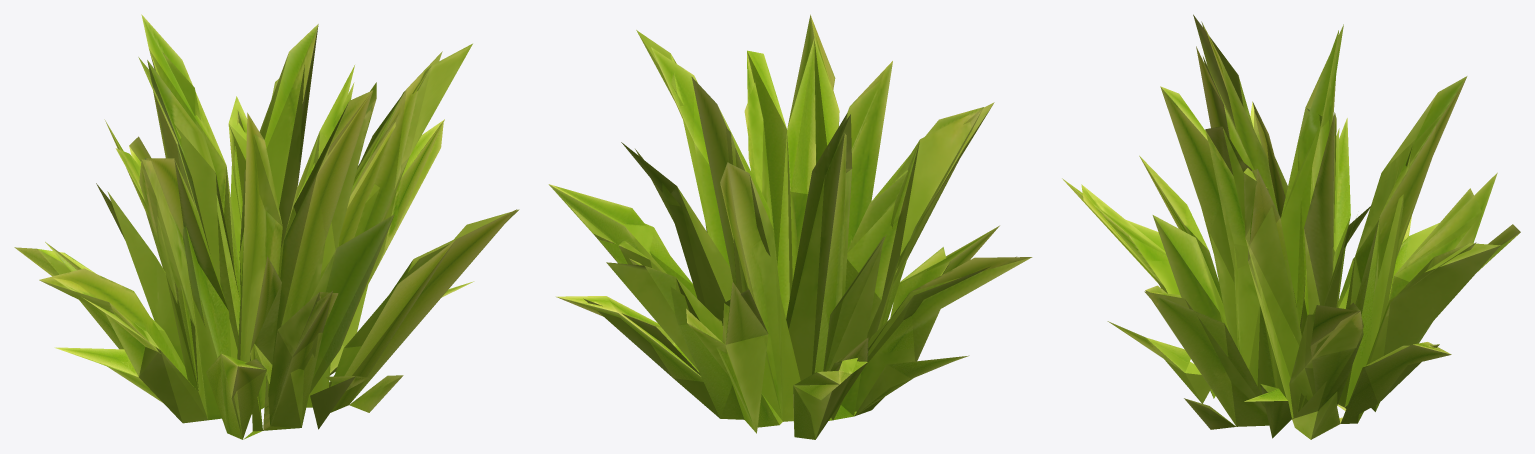
The model's file is grass_tuft.glb.
3 renders of one model, left to right at view 1: azimuth 30°, elevation 25°; view 2: azimuth 150°, elevation 25°; view 3: azimuth 270°, elevation 25°, orthographic. The views are drawn at different scales.
Bounding box in the file's own units: 1.82 × 1.31 × 1.63.
1 material, 1 textured.
